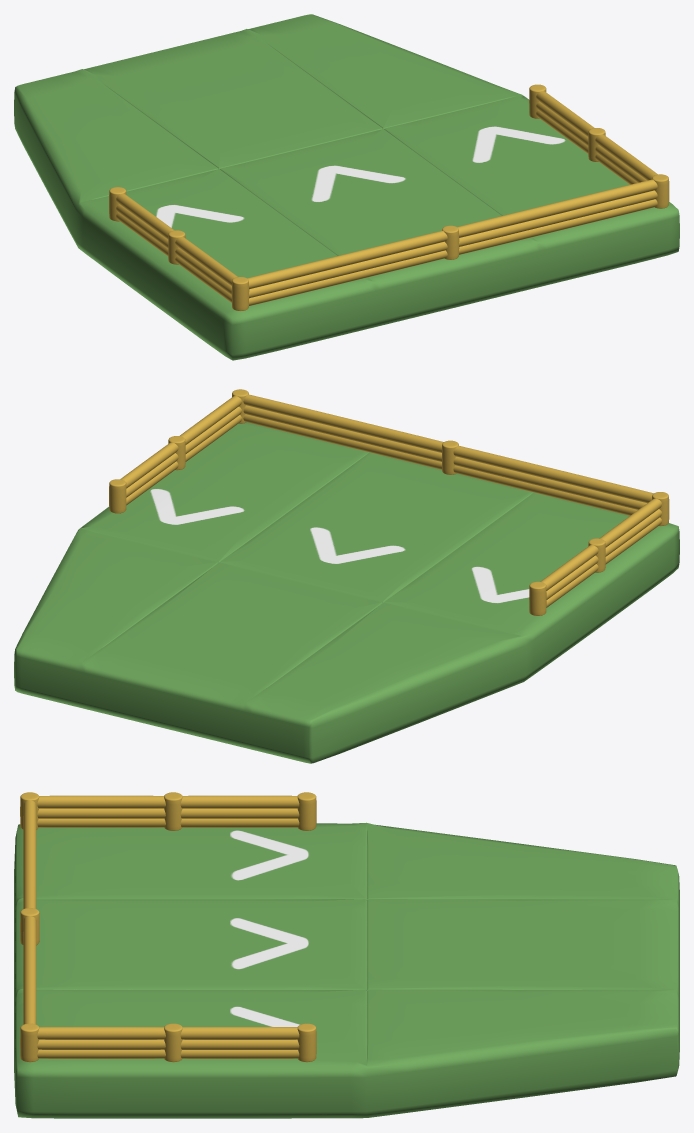
File: sector1.fbx
The picture shows the model from 3 angles, top to bottom: view 1: azimuth 30°, elevation 25°; view 2: azimuth 150°, elevation 25°; view 3: azimuth 270°, elevation 25°; orthographic projection. The views are drawn at different scales.
Parts seen in each view (by area): view 1: sector1, fence_start; view 2: sector1, fence_start; view 3: sector1, fence_start.
Part boxes in pixels (left/top/right/bottom): sector1: left=14, top=14, right=679, bottom=360; fence_start: left=109, top=84, right=669, bottom=311; sector1: left=14, top=422, right=679, bottom=763; fence_start: left=109, top=389, right=669, bottom=615; sector1: left=14, top=822, right=679, bottom=1118; fence_start: left=20, top=792, right=316, bottom=1062.
Bounding box in the file's own units: 94.73 × 15.45 × 107.
2 materials, 1 textured.
